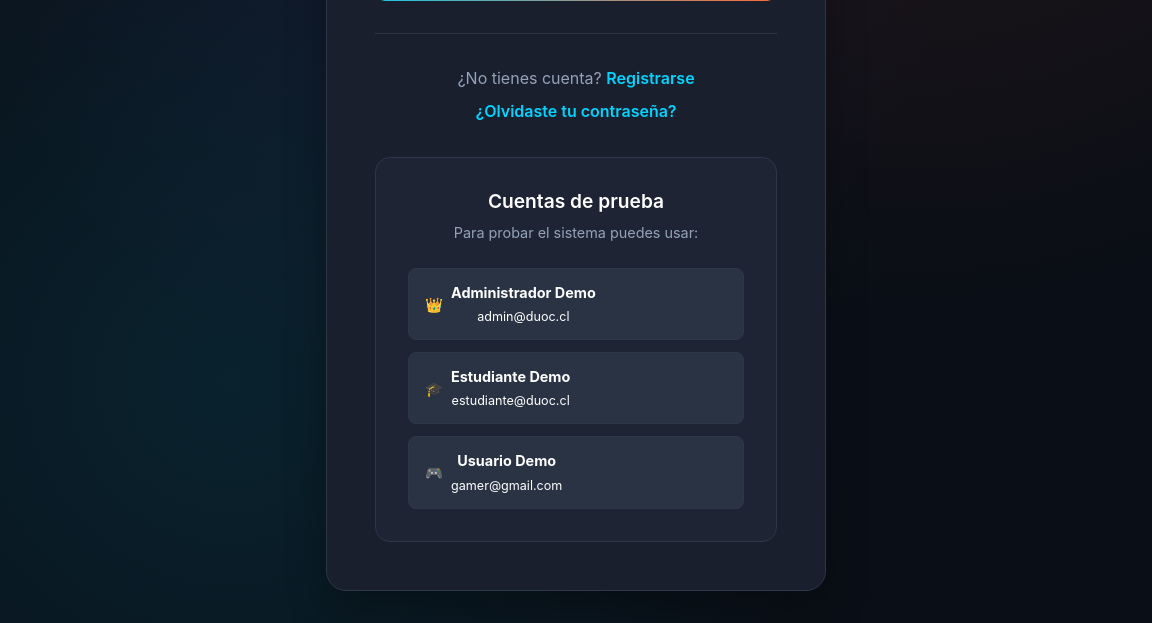
Test: Login › login con cuentas demo › debe auto-completar credenciales al seleccionar cuenta demo
(page scrolled)
What coordinates should you click on to do the following:
click the button that starts with "Administrador"
I would click on:
 (501, 293)
Its box is x1=408 y1=268 x2=744 y2=340.
(page scrolled)
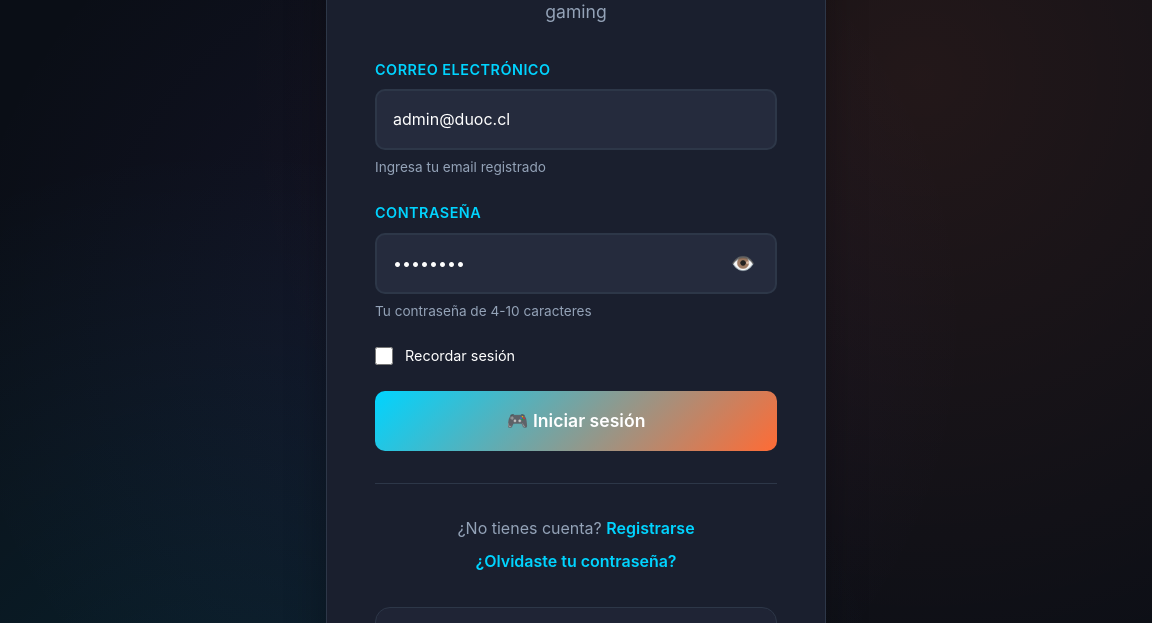
Result: the field labelled "Correo electrónico" holds "admin@duoc.cl" at x1=375 y1=89 x2=777 y2=150
Result: the password field with placeholder "Tu contraseña" holds "admin123" at x1=375 y1=232 x2=777 y2=294
